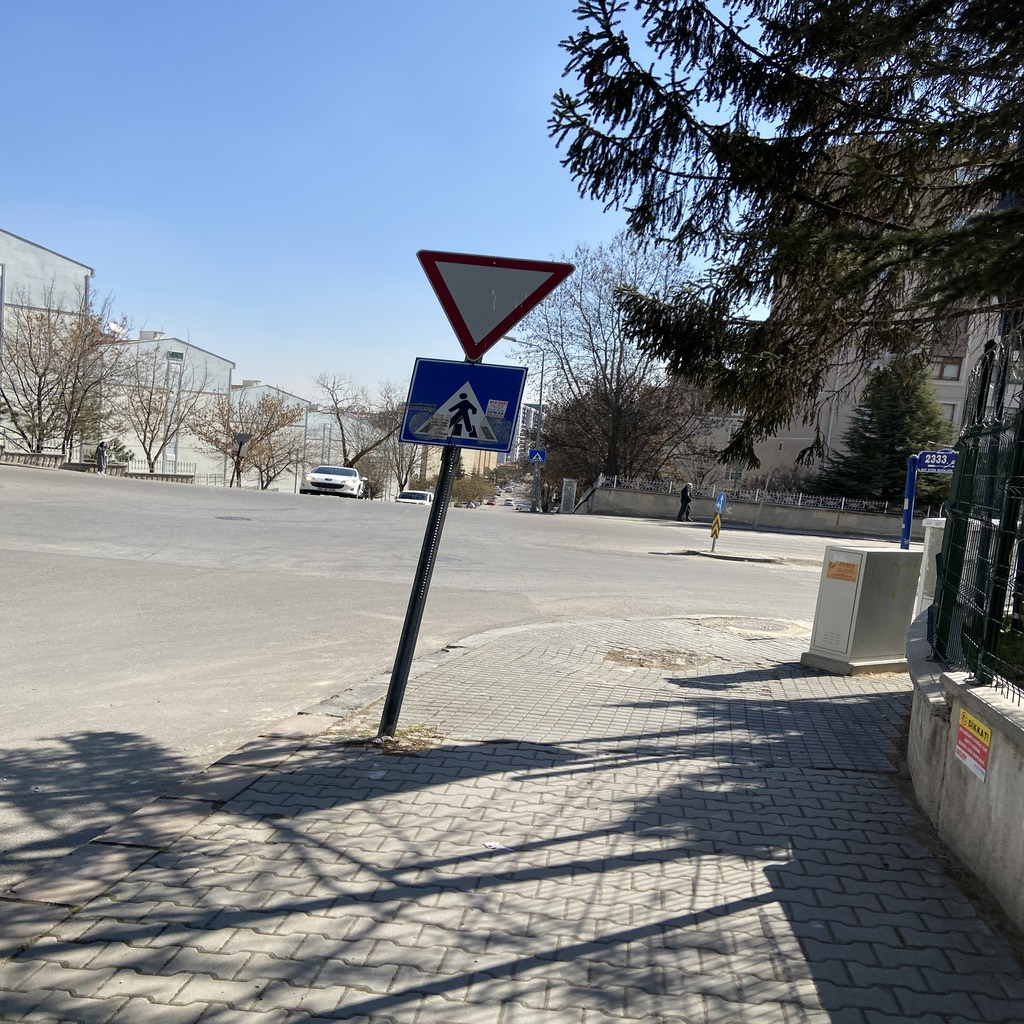Yaya Gecidi: (410, 354, 522, 452)
Yol Ver: (426, 249, 578, 355)
